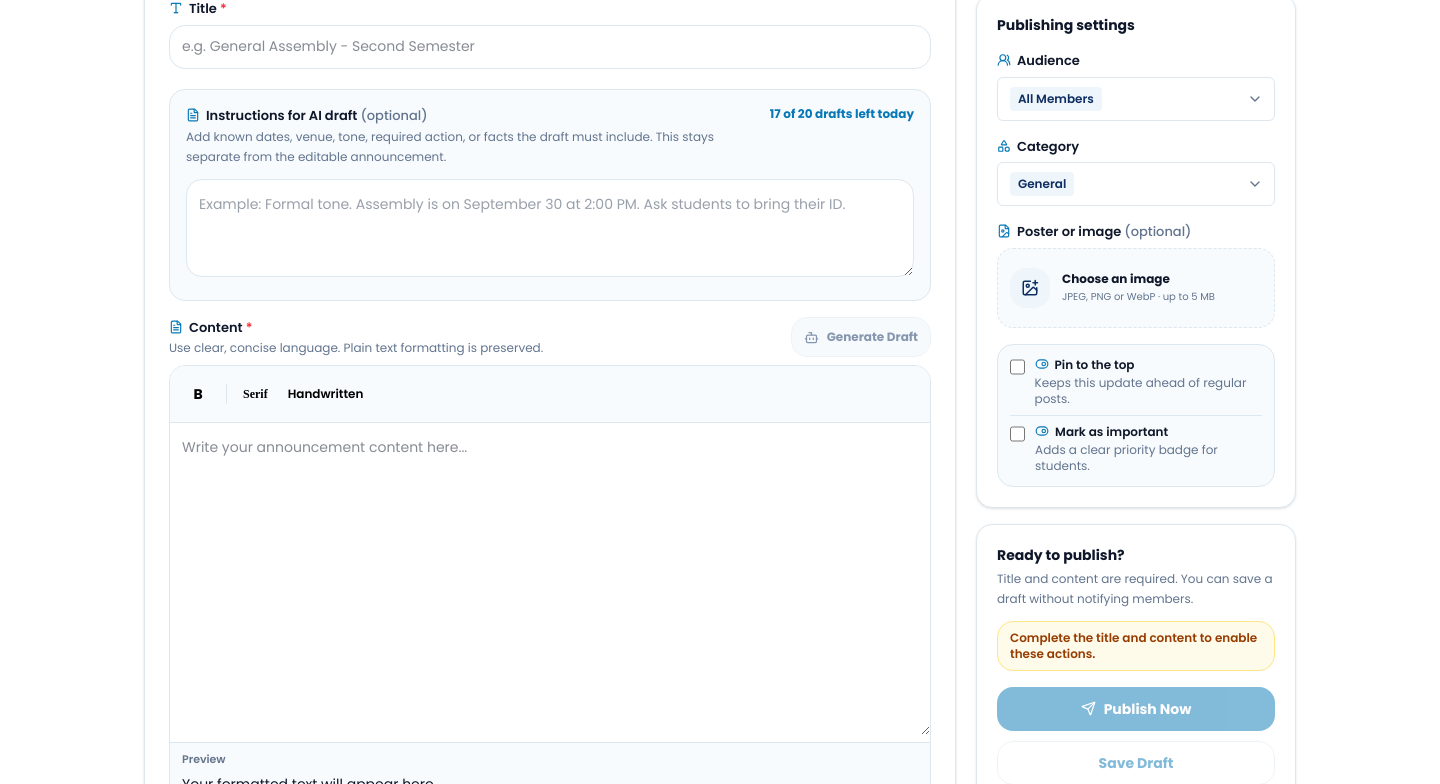
Test: CreateAnnouncementPage › renders a responsive editor workspace with accessible publishing controls
This screenshot has width=1440, height=784.
Expected: the text box labelled "Content *" is shown, [170, 423, 930, 735]
Expected: the text box labelled "Instructions for AI draft (optional)" is shown, [186, 179, 914, 277]
In the field labelled "Title *": (550, 46) [169, 24, 931, 68], type "General Assembly"
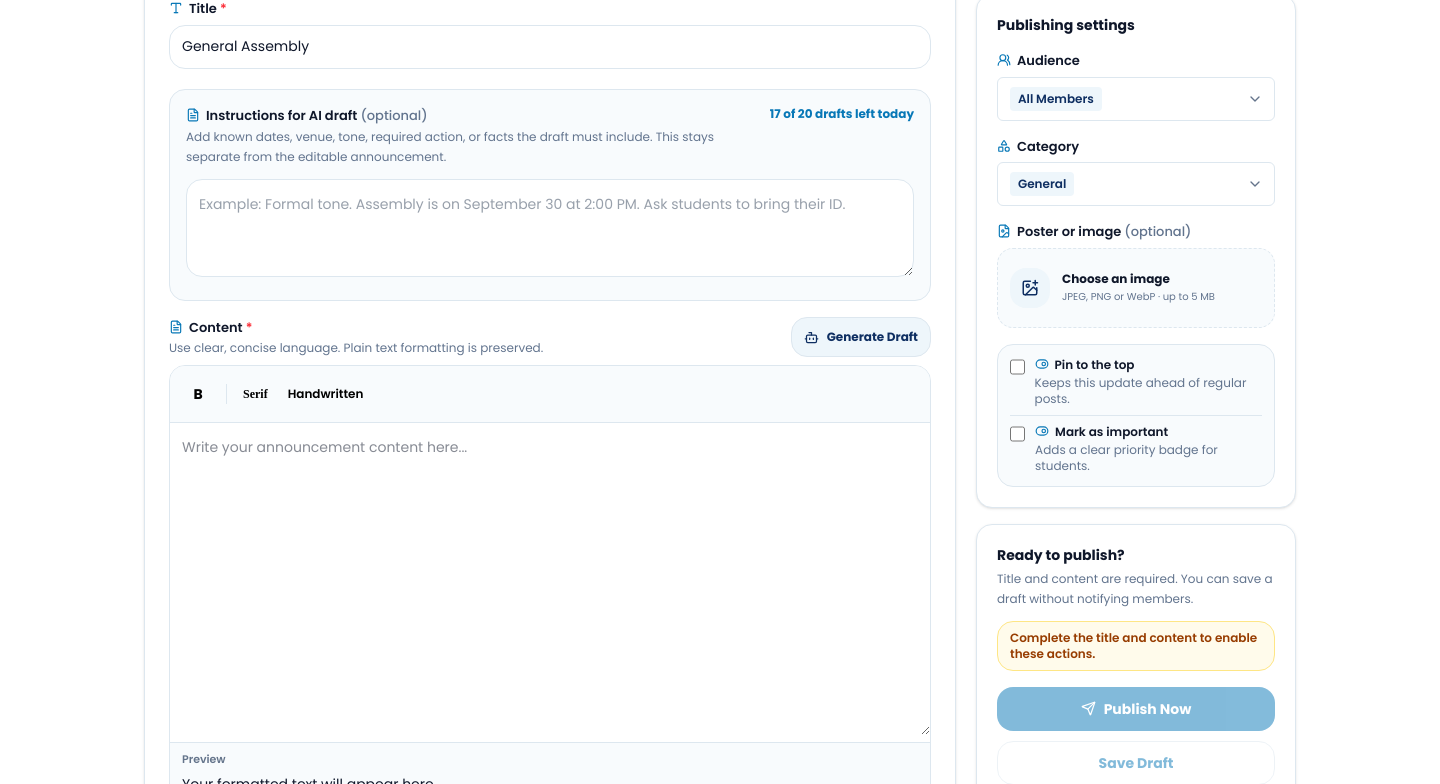
In the text box labelled "Content *": (550, 579) [170, 423, 930, 735], type "All members are invited."
(page scrolled)
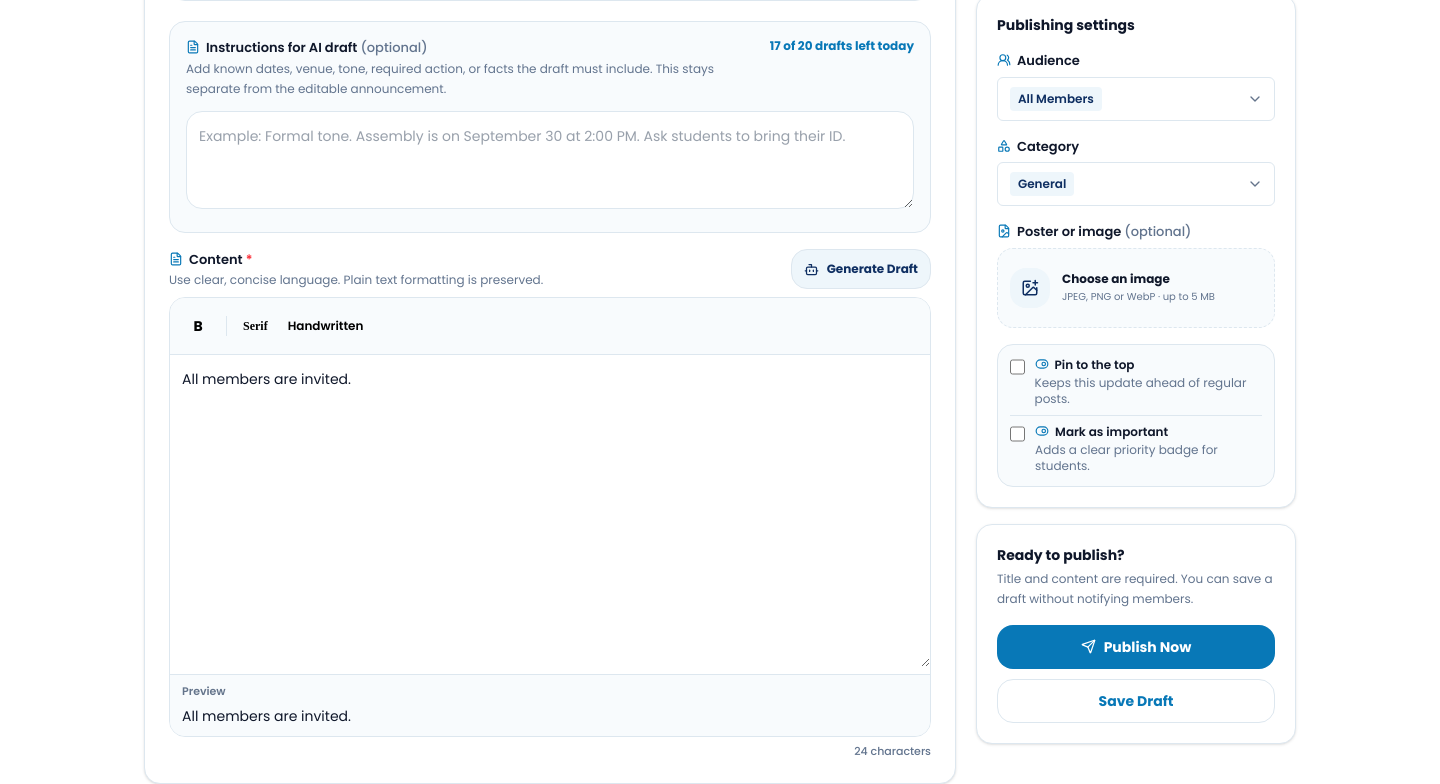
Now the button "Publish Now" is enabled, box [997, 624, 1275, 668]
Now the text "24 characters" is shown, box [854, 742, 931, 758]
